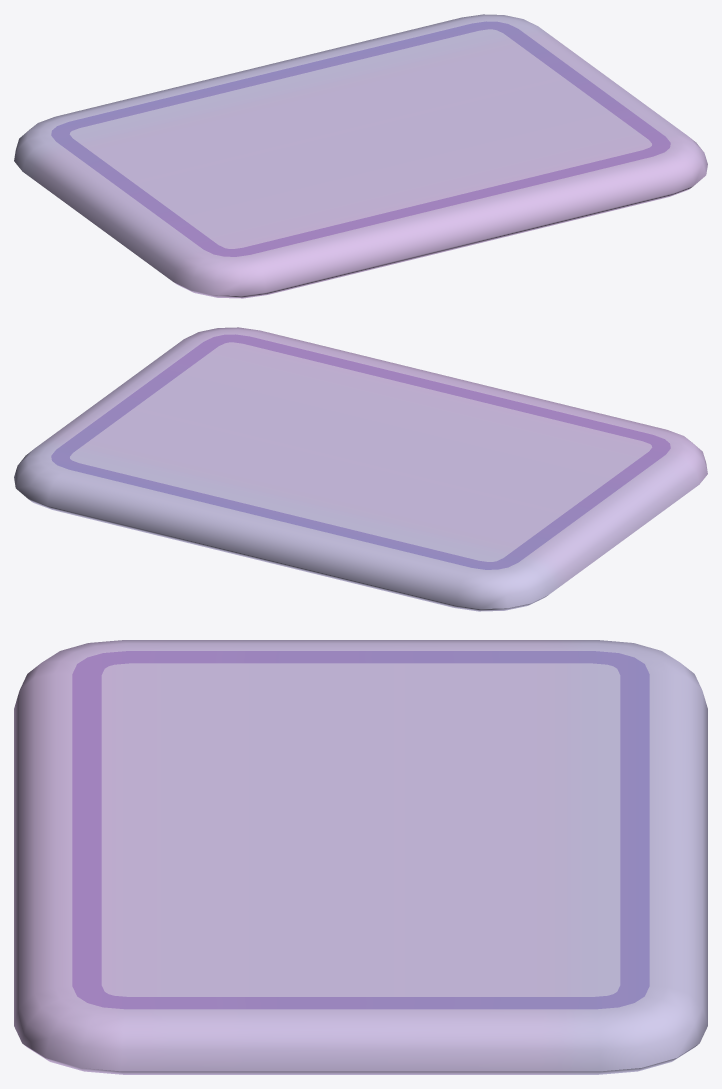
Rendered from Bath_Prop_24.glb.
3 views of the same model, one above another, from view 1: azimuth 30°, elevation 25°; view 2: azimuth 150°, elevation 25°; view 3: azimuth 270°, elevation 25° (orthographic). The views are drawn at different scales.
Parts seen in each view (by area): view 1: Bath_Prop_24; view 2: Bath_Prop_24; view 3: Bath_Prop_24.
Boxes of the visible parts, x1,y1,x2,y2 form: Bath_Prop_24: (14,14,707,298); Bath_Prop_24: (14,327,707,611); Bath_Prop_24: (14,640,707,1074).
Bounding box in the file's own units: 0.57 × 0.029 × 0.41.
1 material, 1 textured.
